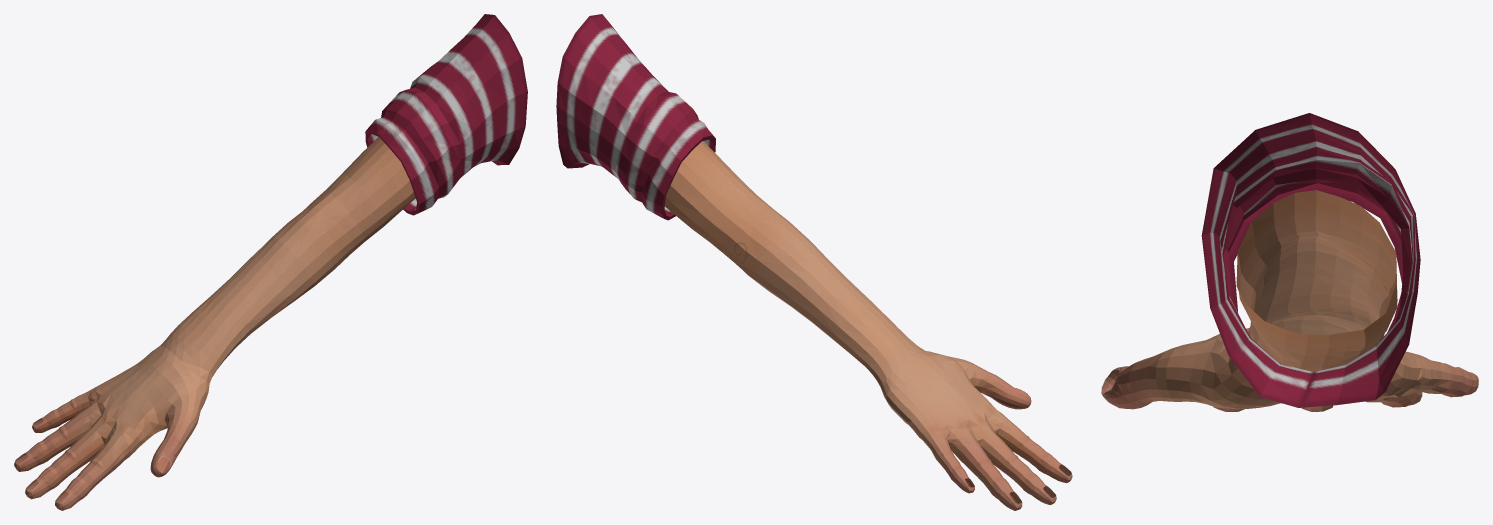
The model's file is brazo_derecho.obj.
3 renders of one model, left to right at view 1: azimuth 30°, elevation 25°; view 2: azimuth 150°, elevation 25°; view 3: azimuth 270°, elevation 25°, orthographic. The views are drawn at different scales.
Parts seen in each view (by area): view 1: Object007; view 2: Object007; view 3: Object007.
Boxes of the visible parts, bbox=[...] form: Object007: bbox=[14, 14, 527, 510]; Object007: bbox=[556, 14, 1072, 510]; Object007: bbox=[1101, 113, 1478, 411].
Size of the model in its own units: 0.6586 by 0.4947 by 0.2276.
2 materials, 2 textured.
